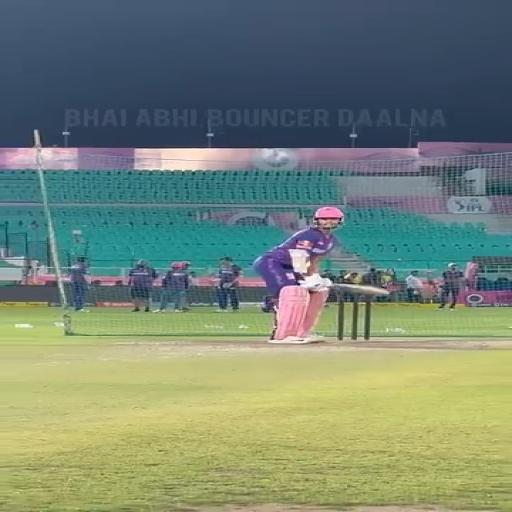Cricket bat: (329, 284, 388, 294)
